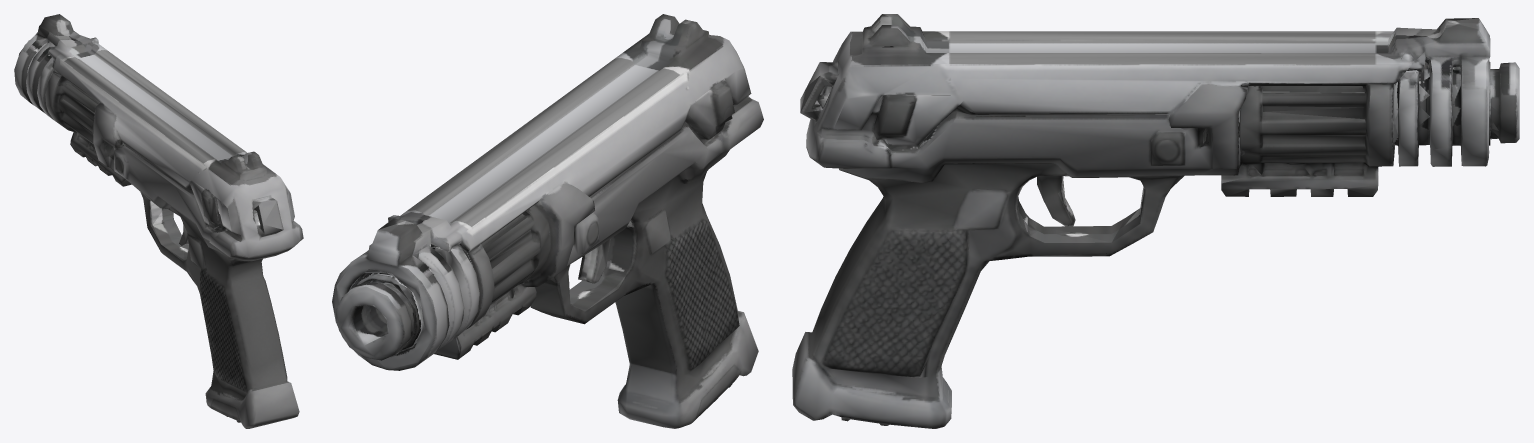
Rendered from pistol.glb.
3 views of the same model, side by side, from view 1: azimuth 30°, elevation 25°; view 2: azimuth 150°, elevation 25°; view 3: azimuth 270°, elevation 25° (orthographic). The views are drawn at different scales.
Visible parts, largest first — view 1: low; view 2: low; view 3: low.
Part boxes in pixels (left/top/right/bottom): low: left=14, top=14, right=303, bottom=428; low: left=332, top=14, right=763, bottom=428; low: left=792, top=14, right=1519, bottom=428.
Bounding box in the file's own units: 0.0474 × 0.1544 × 0.2599.
1 material, 1 textured.
